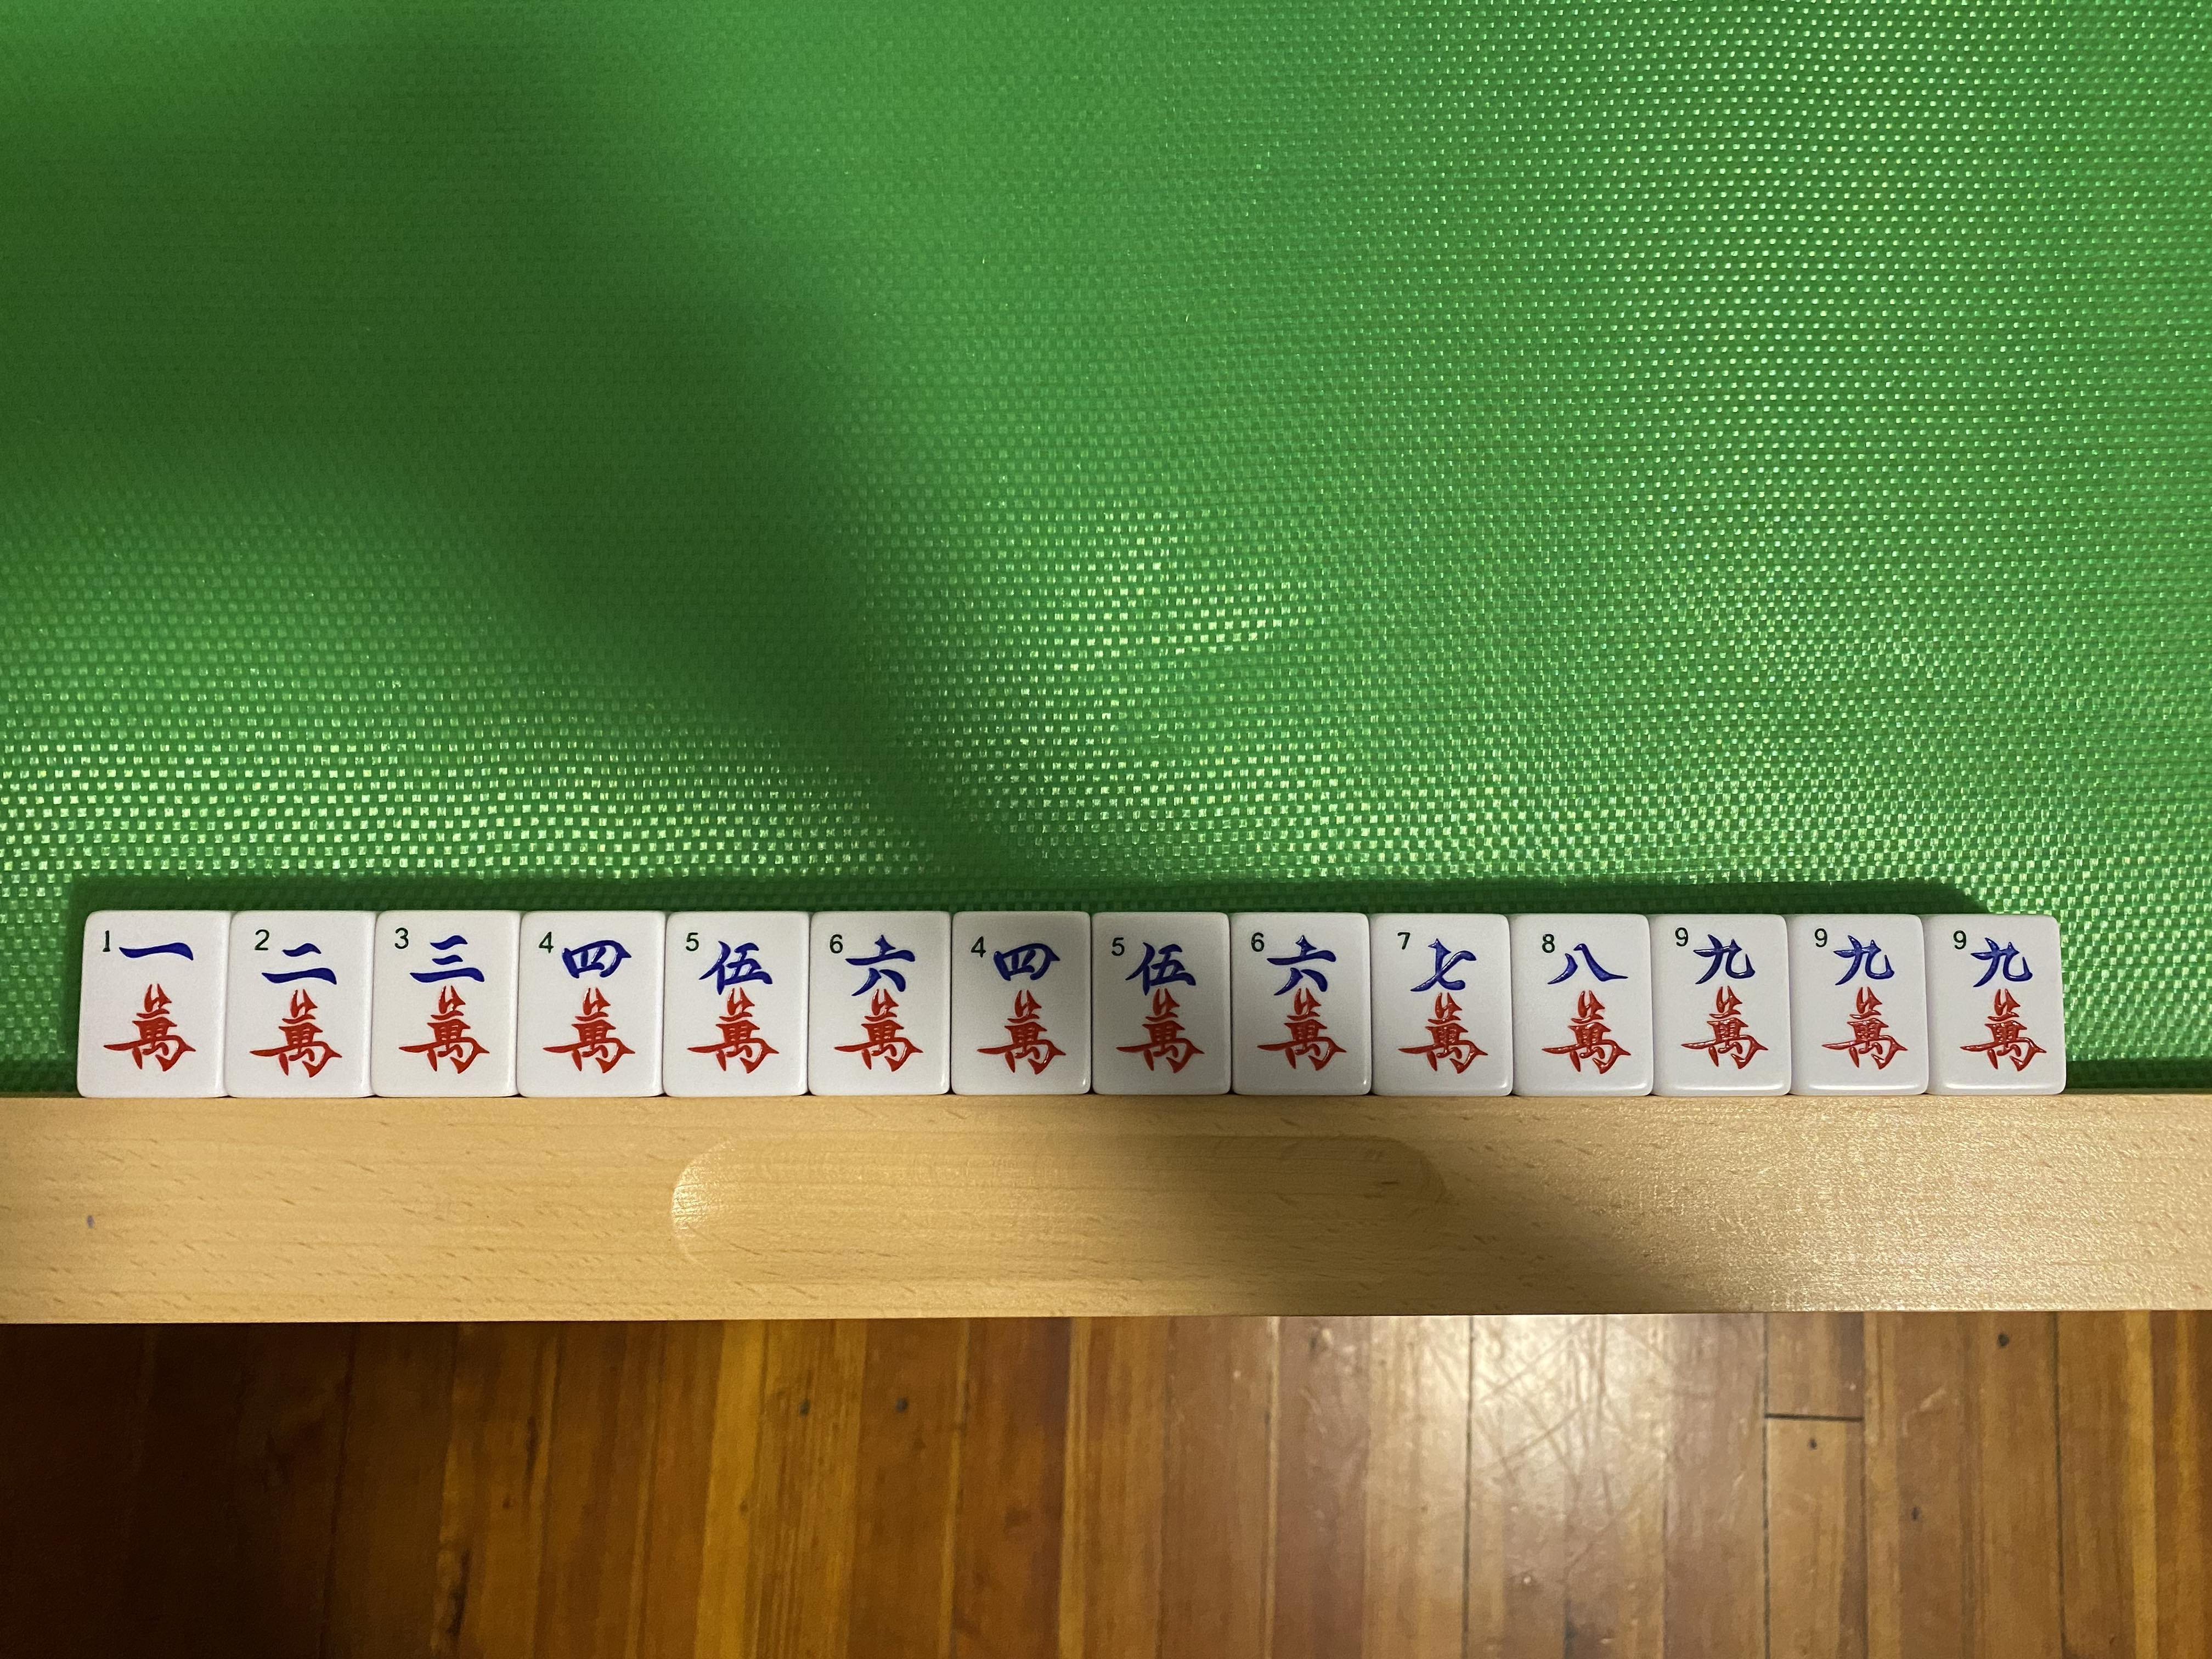character-eight: (1517, 917, 1649, 1094)
character-five: (669, 915, 810, 1098), (1092, 913, 1230, 1094)
character-four: (523, 913, 664, 1096), (953, 911, 1089, 1096)
character-nine: (1655, 918, 1787, 1096), (1794, 915, 1923, 1091), (1933, 915, 2059, 1089)
character-one: (85, 911, 219, 1094)
character-seven: (1376, 915, 1510, 1093)
character-six: (812, 913, 949, 1096), (1235, 911, 1369, 1091)
character-three: (371, 913, 519, 1093)
character-two: (233, 917, 369, 1098)
